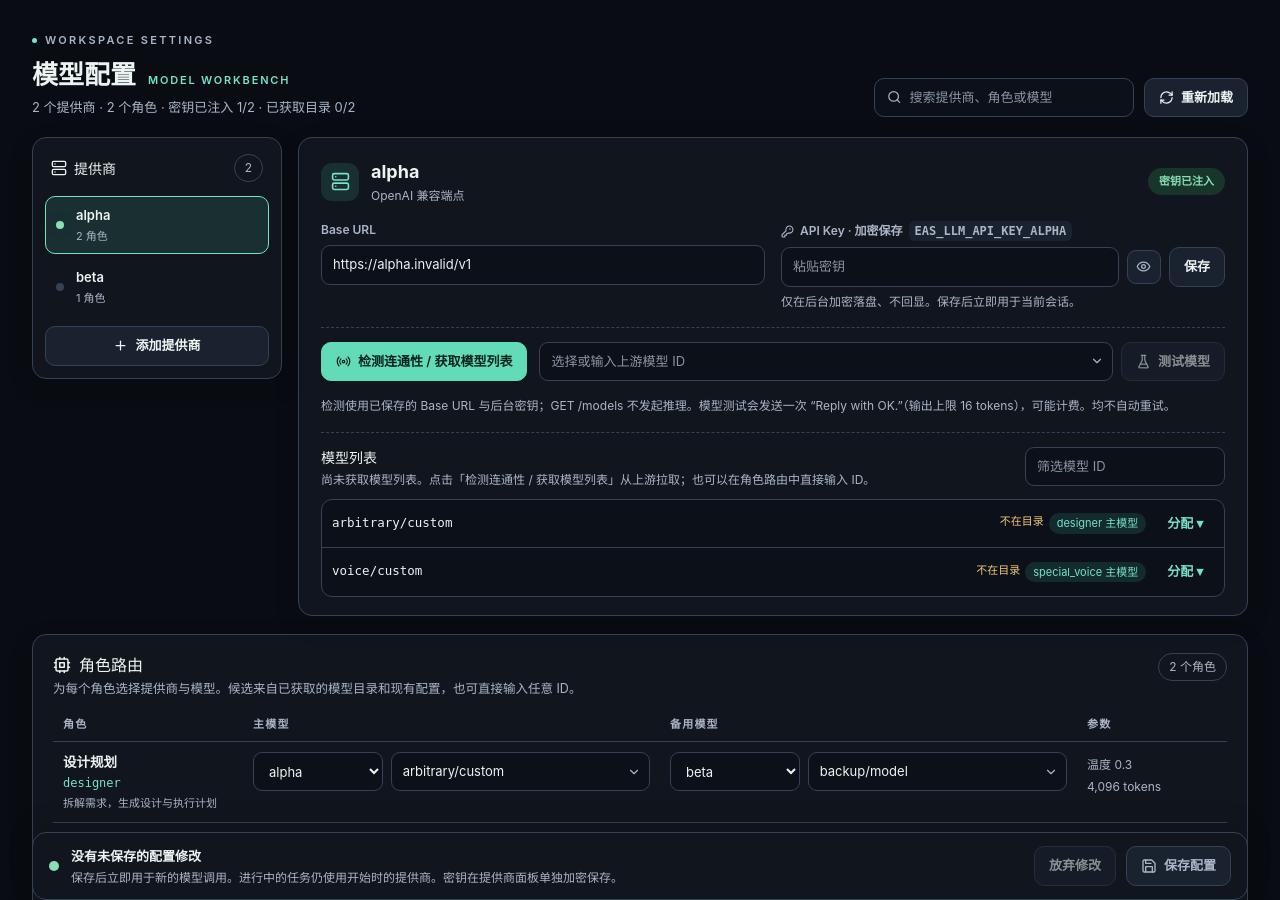
Test: 模型配置 › 主备用模型均提交，携带版本、不带密钥且不重启
Clear the dropdown named "designer 主模型 ID" at {"x": 520, "y": 772}, box [391,752,650,791]
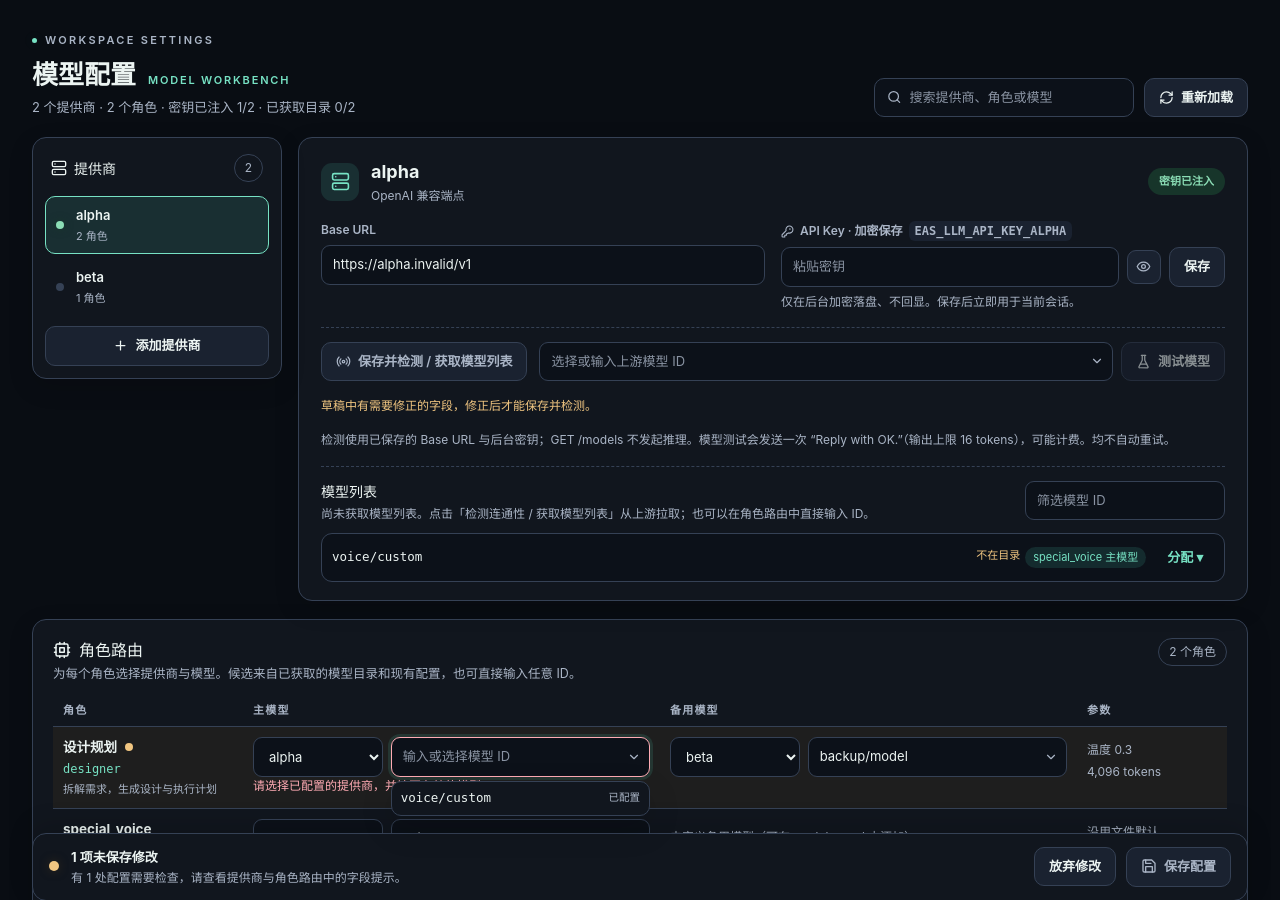
Type "new-model" into the dropdown named "designer 主模型 ID" at {"x": 520, "y": 757}, box [391,737,650,777]
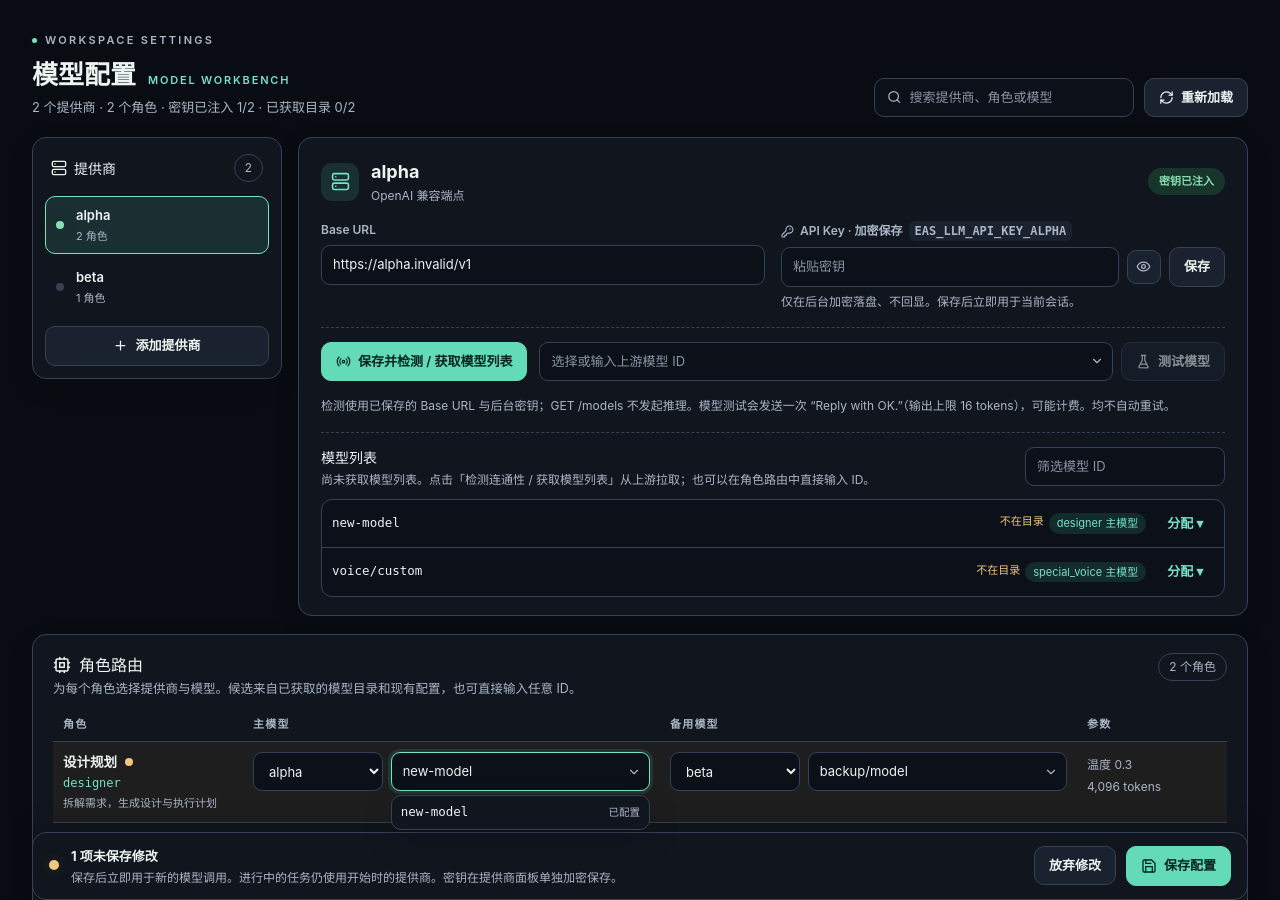
Clear the dropdown named "designer 备用模型 ID" at {"x": 937, "y": 772}, box [808,752,1067,791]
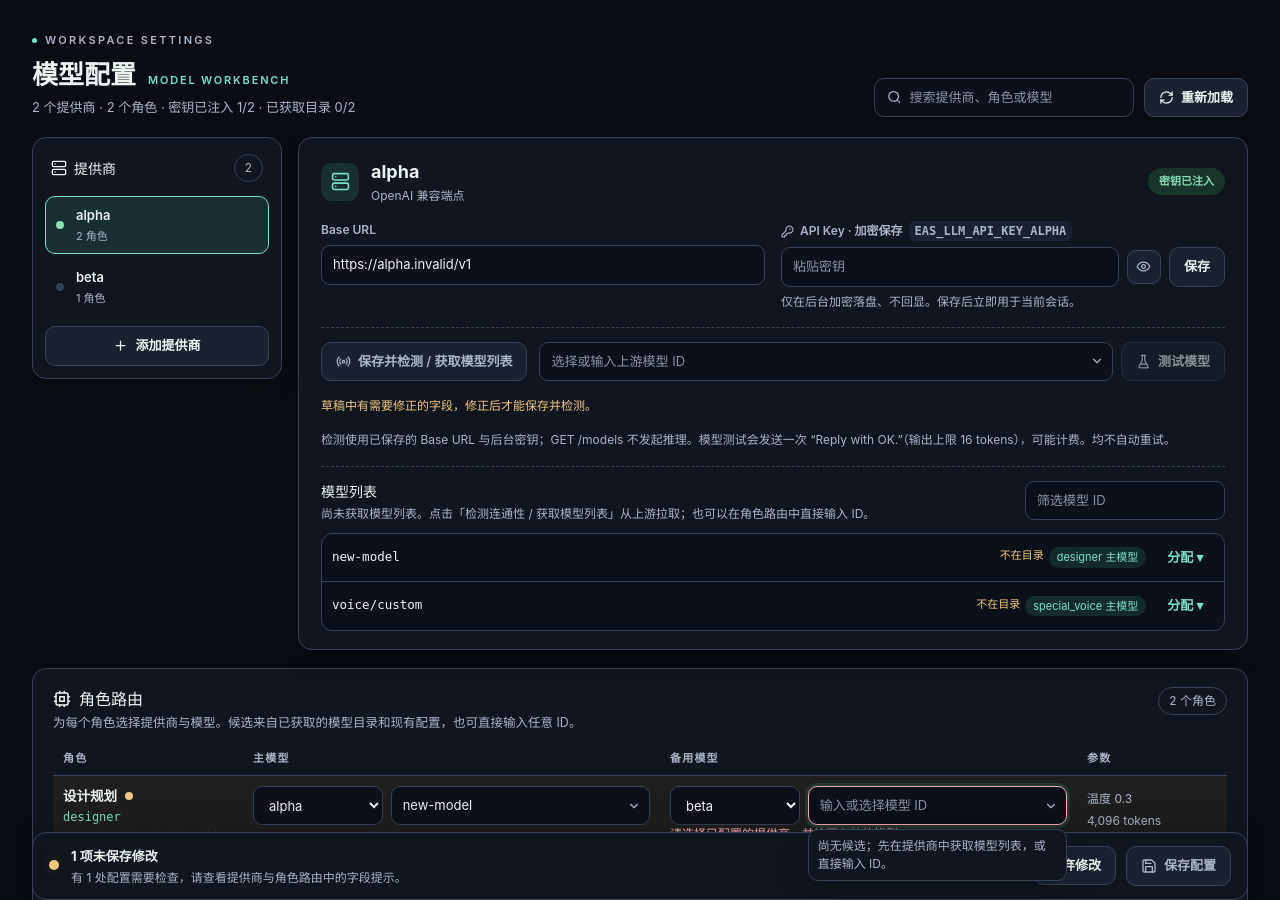
Type "new-backup" into the dropdown named "designer 备用模型 ID" at {"x": 937, "y": 806}, box [808,786,1067,825]
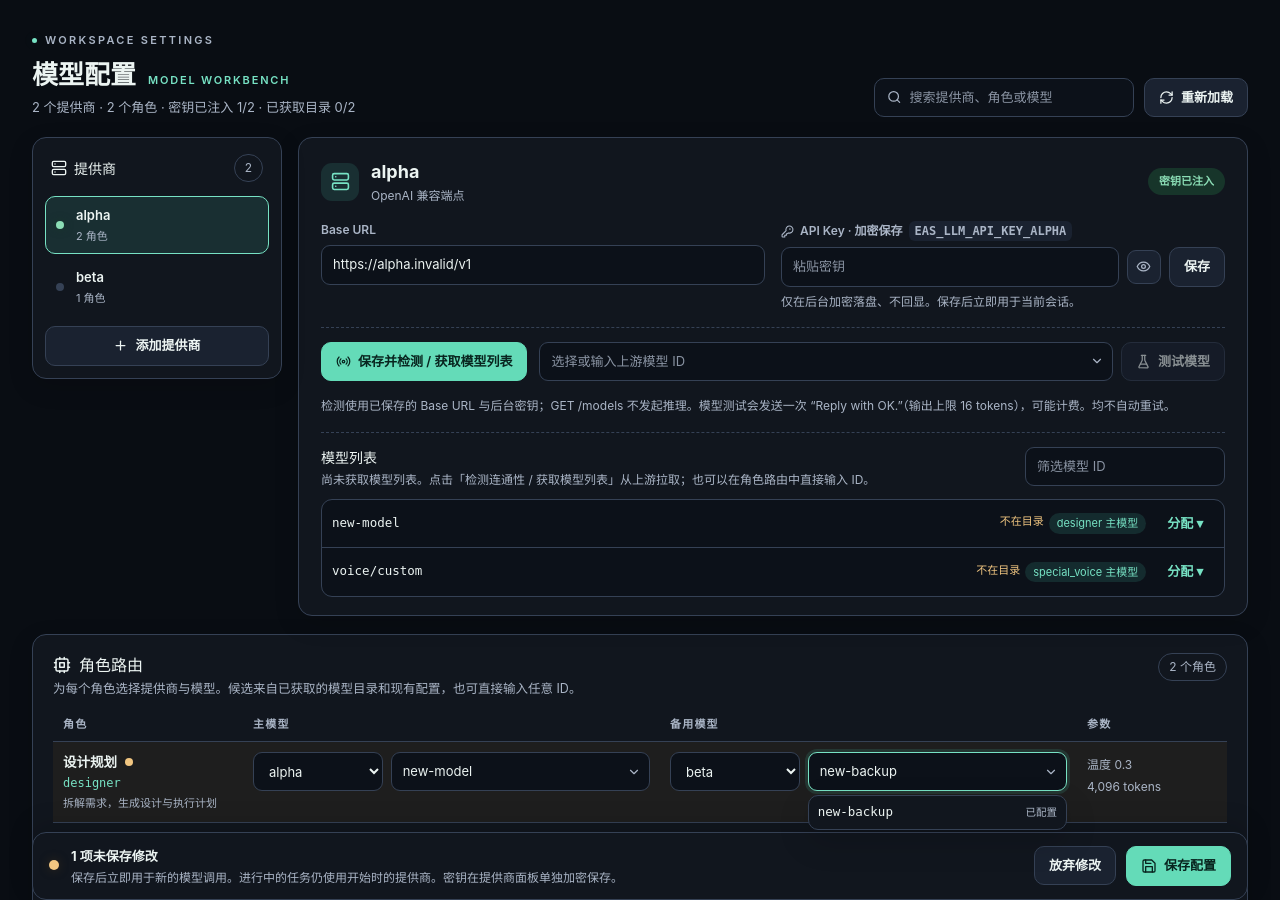
Click the button "保存配置" at {"x": 1178, "y": 866}, box [1126,846,1231,886]
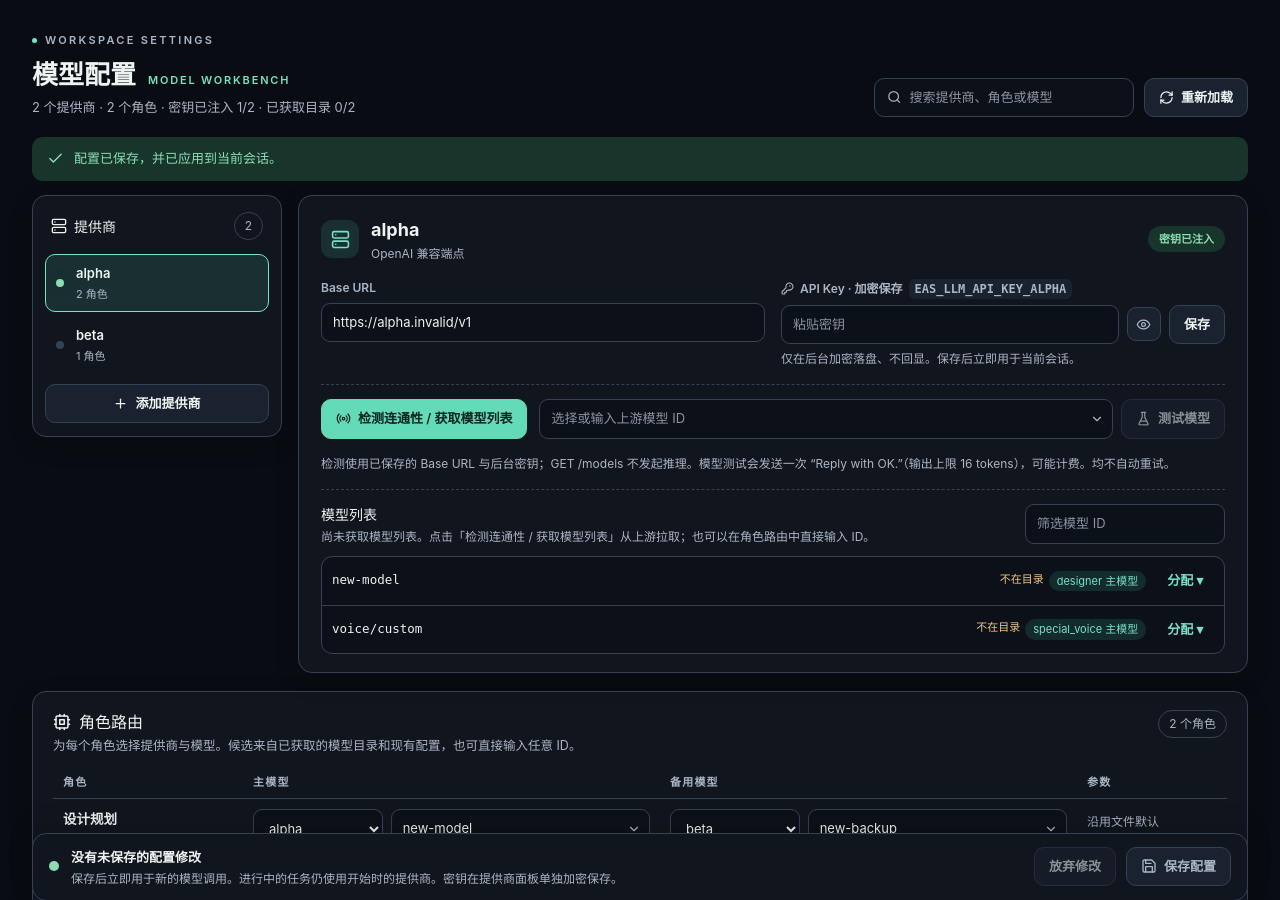
Now the button "new-model" is shown, box [332,568,990,593]
Now the text "配置已保存，并已应用到当前会话。" is shown, box [74,150,282,166]
Now the button "保存配置" is disabled, box [1126,846,1231,886]
